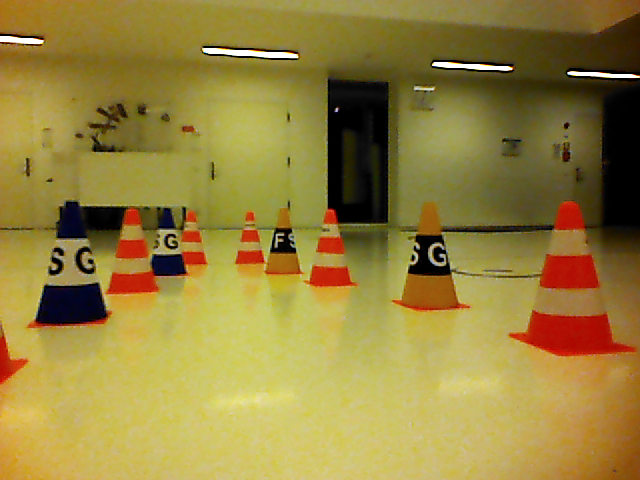bluecone: (34, 200, 107, 322), (154, 207, 184, 275)
orangeconesmall: (528, 201, 613, 347), (108, 208, 155, 290), (309, 209, 351, 287), (236, 211, 264, 262), (183, 210, 209, 263)
yellowcone: (403, 203, 457, 307), (268, 209, 300, 272)
